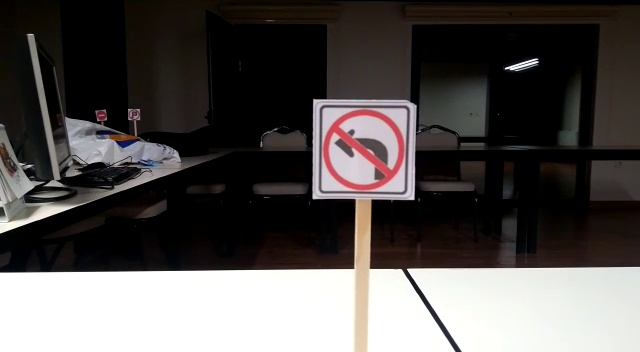sola_donulmez: (315, 105, 409, 194)
